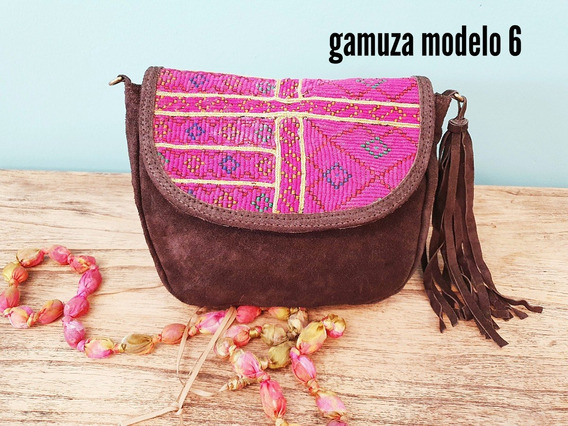cartera: (115, 62, 481, 309)
